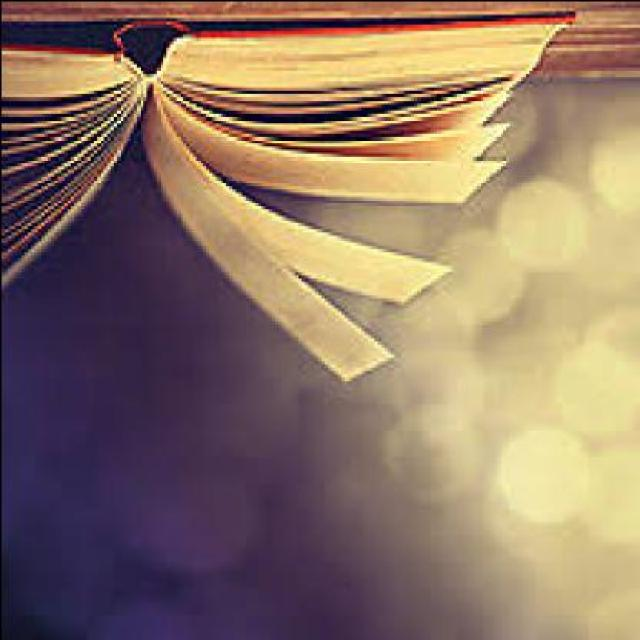PAPER: (7, 16, 581, 382), (142, 89, 400, 389), (152, 82, 452, 307), (166, 95, 512, 208)
